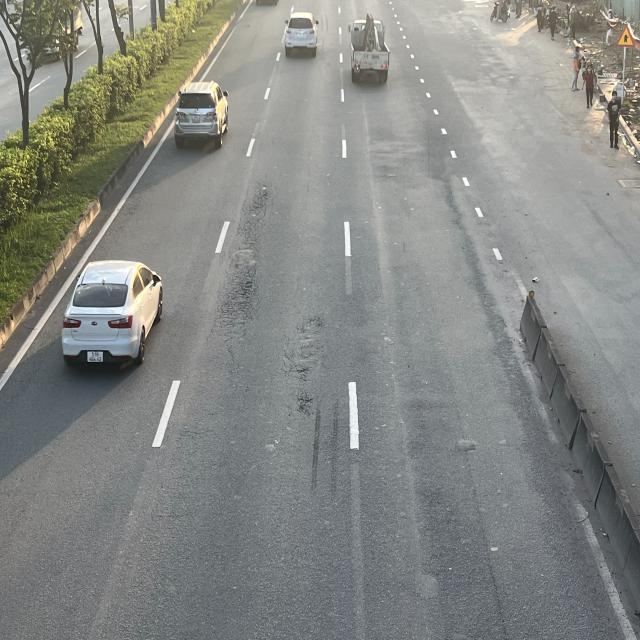car: (60, 258, 163, 370), (175, 78, 230, 146), (282, 13, 318, 58)
truck: (348, 16, 389, 84)
